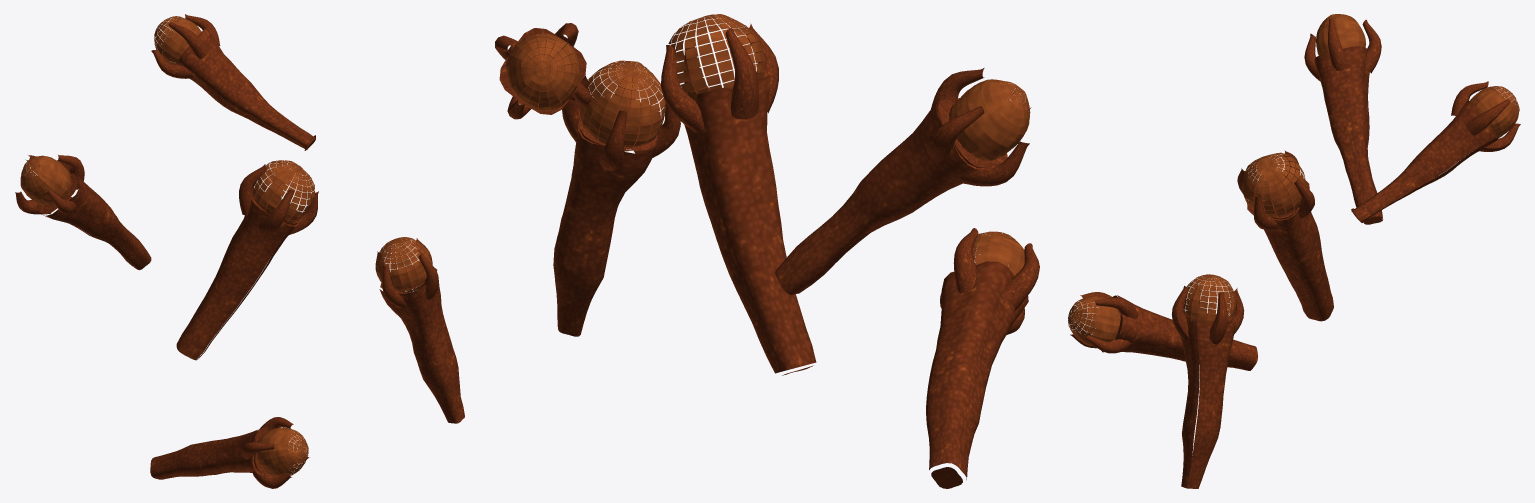
File: cloves.glb
3 renders of one model, left to right at view 1: azimuth 30°, elevation 25°; view 2: azimuth 150°, elevation 25°; view 3: azimuth 270°, elevation 25°, orthographic. The views are drawn at different scales.
Visible parts, largest first — view 1: clove-stalks, clove-buds; view 2: clove-stalks, clove-buds; view 3: clove-stalks, clove-buds.
Boxes of the visible parts, box(x1,y1,x2,y2) form: clove-stalks: box(15, 14, 464, 488); clove-buds: box(20, 16, 432, 476); clove-stalks: box(495, 23, 1039, 488); clove-buds: box(505, 14, 1030, 275); clove-stalks: box(1070, 18, 1520, 488); clove-buds: box(1068, 14, 1519, 346).
Bounding box in the file's own units: 0.0435 × 0.038 × 0.0444.
Materials: 2 (2 with a texture image).
